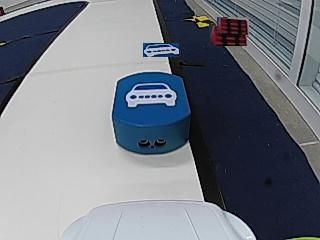safety: (124, 82, 179, 107)
